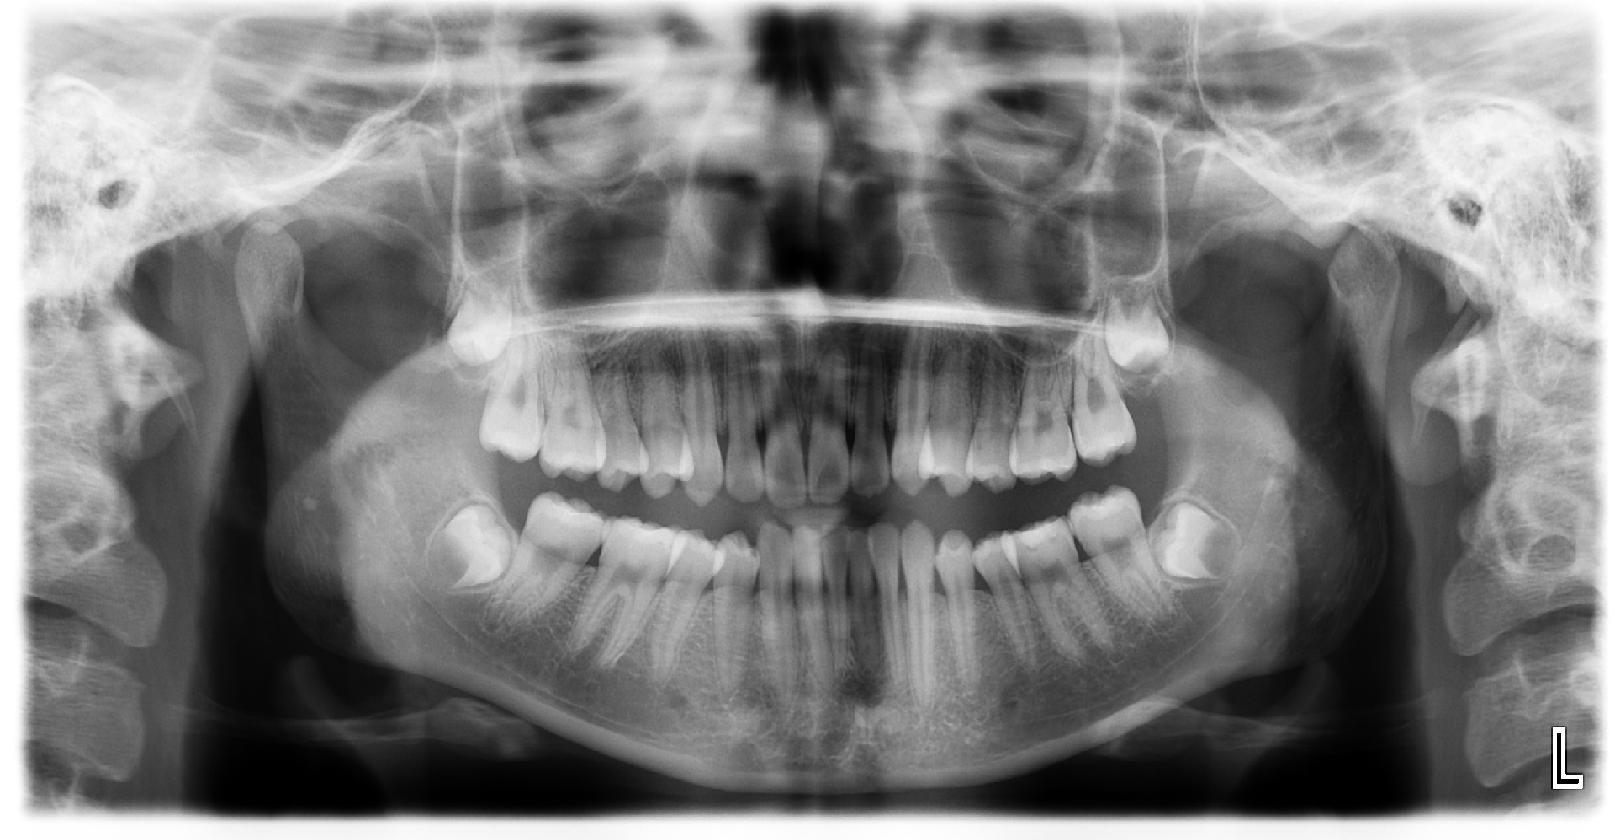Mesio-angular: (1145, 495, 1249, 596), (422, 491, 521, 590)
